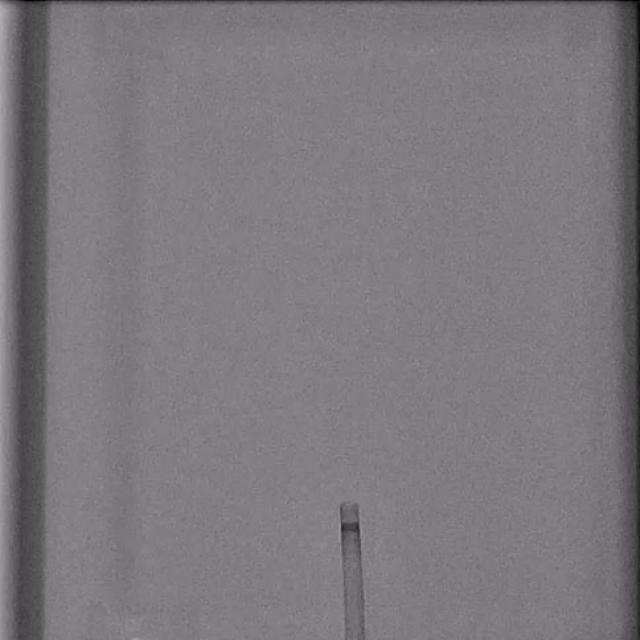entry: (346, 634, 365, 640)
marker: (341, 522, 359, 534)
tip: (340, 500, 358, 509)
